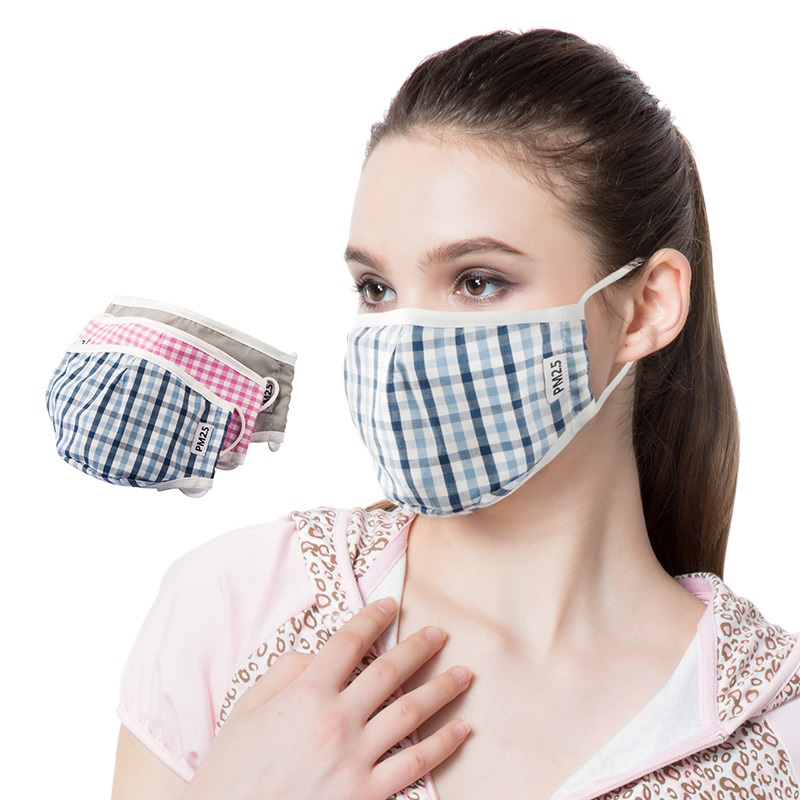face_mask: (334, 134, 603, 502)
